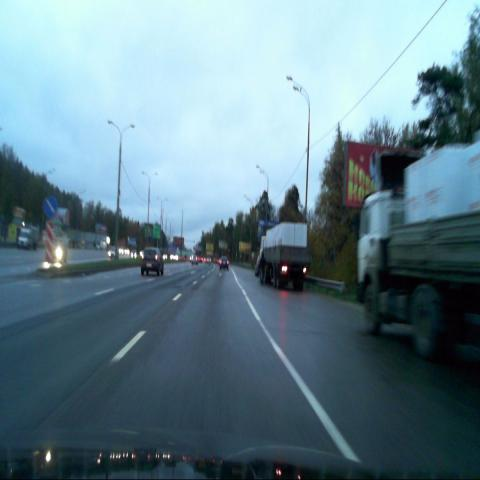4_2_1: (44, 195, 57, 219)
